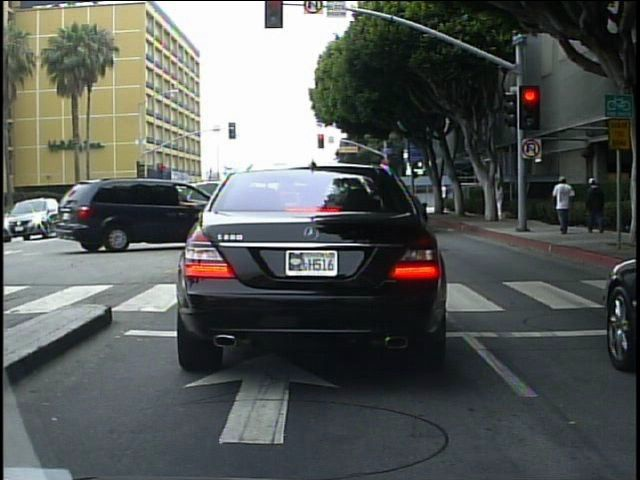person: (553, 173, 580, 236), (585, 173, 610, 237), (493, 177, 508, 222), (437, 179, 451, 213)
